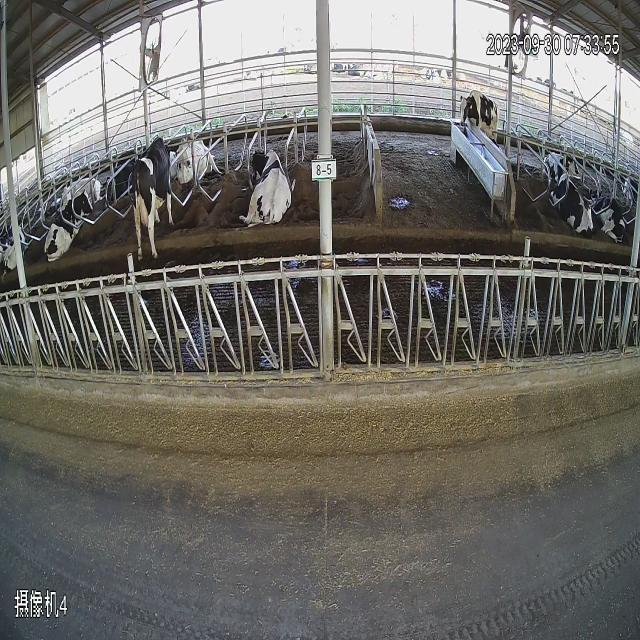drinking: (444, 68, 520, 155)
lying down: (0, 130, 105, 292), (540, 127, 636, 276), (232, 124, 294, 248), (174, 115, 220, 219), (101, 133, 135, 222)
standing: (134, 113, 182, 274)
